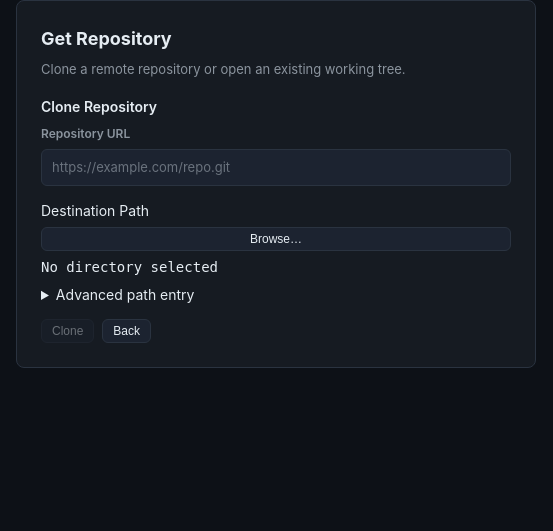
Scenario: ClientClone rejects relative paths before any backend call › shows an actionable error for a relative clone destination
The width and height of the screenshot is (553, 531).
Type "lore://example/project" into the field labelled "Repository URL".
click(276, 167); type("lore://example/project")  # box [41,148,511,186]
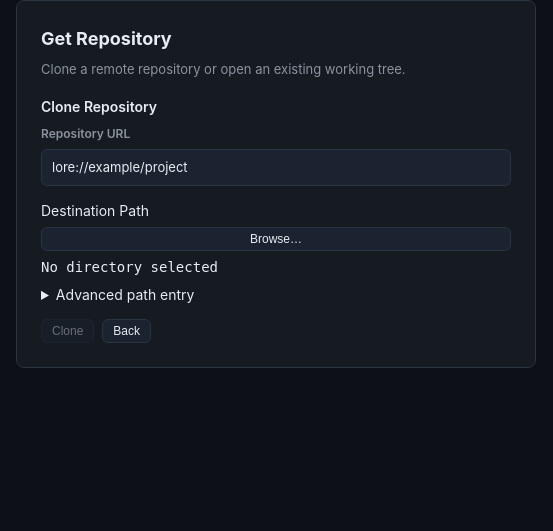
Click the heading "Advanced path entry".
click(125, 294)  # box [56,286,194,303]
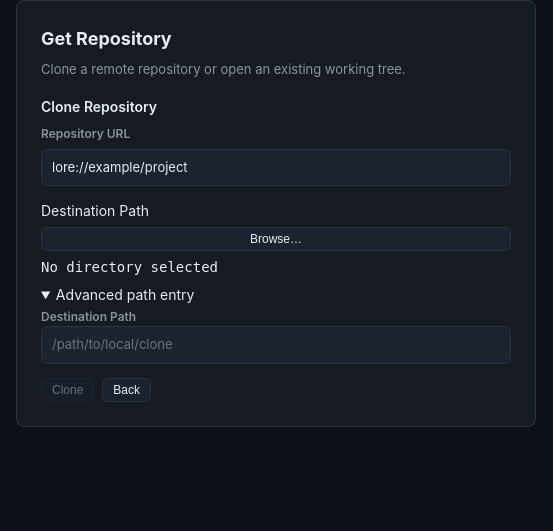
Type "lore" into the field labelled "Destination Path".
click(276, 345); type("lore")  # box [41,326,511,364]
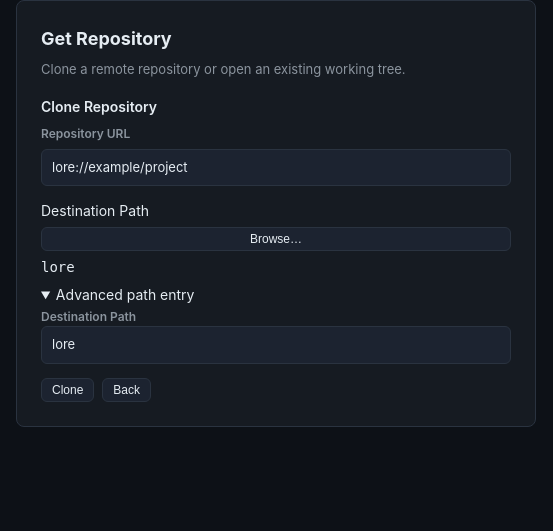
Click the button "Clone".
click(68, 390)  # box [41,378,94,402]
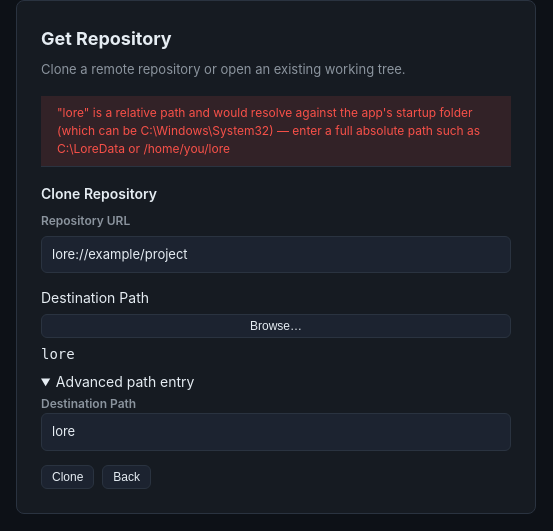
Result: the text "is a relative path" shows "\"lore\"" at [57,104,484,156]
Result: the text "is a relative path" shows "absolute path" at [57,104,484,156]
